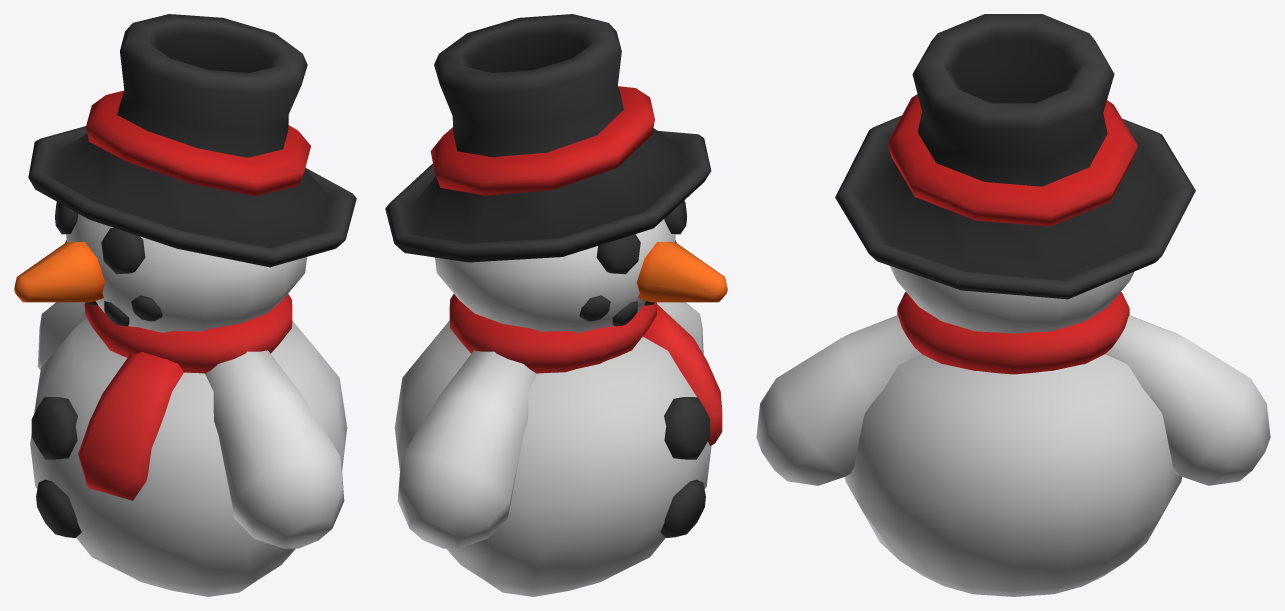
The model's file is Snowman.fbx.
The picture shows the model from 3 angles, left to right: view 1: azimuth 30°, elevation 25°; view 2: azimuth 150°, elevation 25°; view 3: azimuth 270°, elevation 25°; orthographic projection. The views are drawn at different scales.
Parts seen in each view (by area): view 1: Snowman; view 2: Snowman; view 3: Snowman.
Boxes of the visible parts, left/top/right/bottom form: Snowman: left=14, top=14, right=356, bottom=596; Snowman: left=385, top=14, right=727, bottom=596; Snowman: left=756, top=14, right=1270, bottom=596.
Size of the model in its own units: 0.2764 by 0.4387 by 0.3837.
